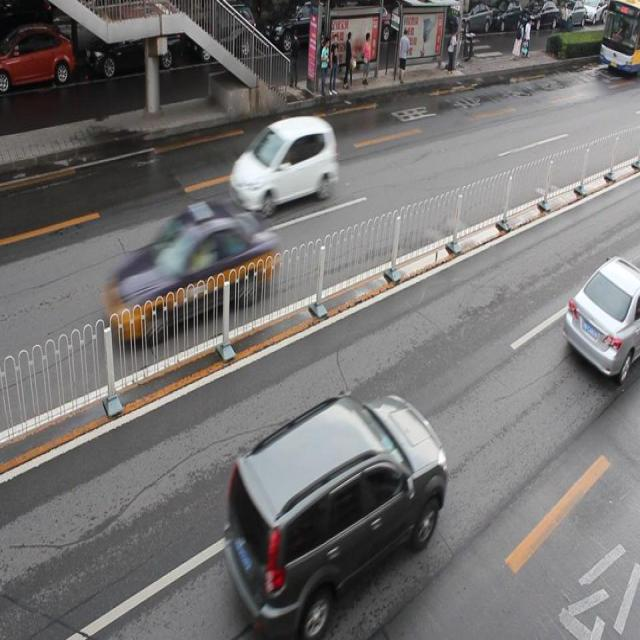car: (228, 392, 445, 628), (105, 200, 275, 344), (229, 114, 337, 212), (563, 256, 640, 375), (83, 20, 179, 80), (1, 26, 76, 93), (185, 1, 255, 61), (261, 1, 330, 56)
van: (599, 1, 640, 71)
